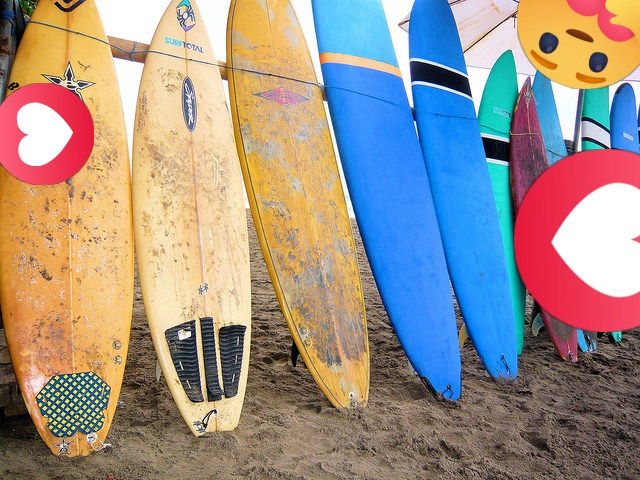care: (517, 0, 640, 89)
love: (514, 149, 640, 332), (0, 83, 94, 185)
